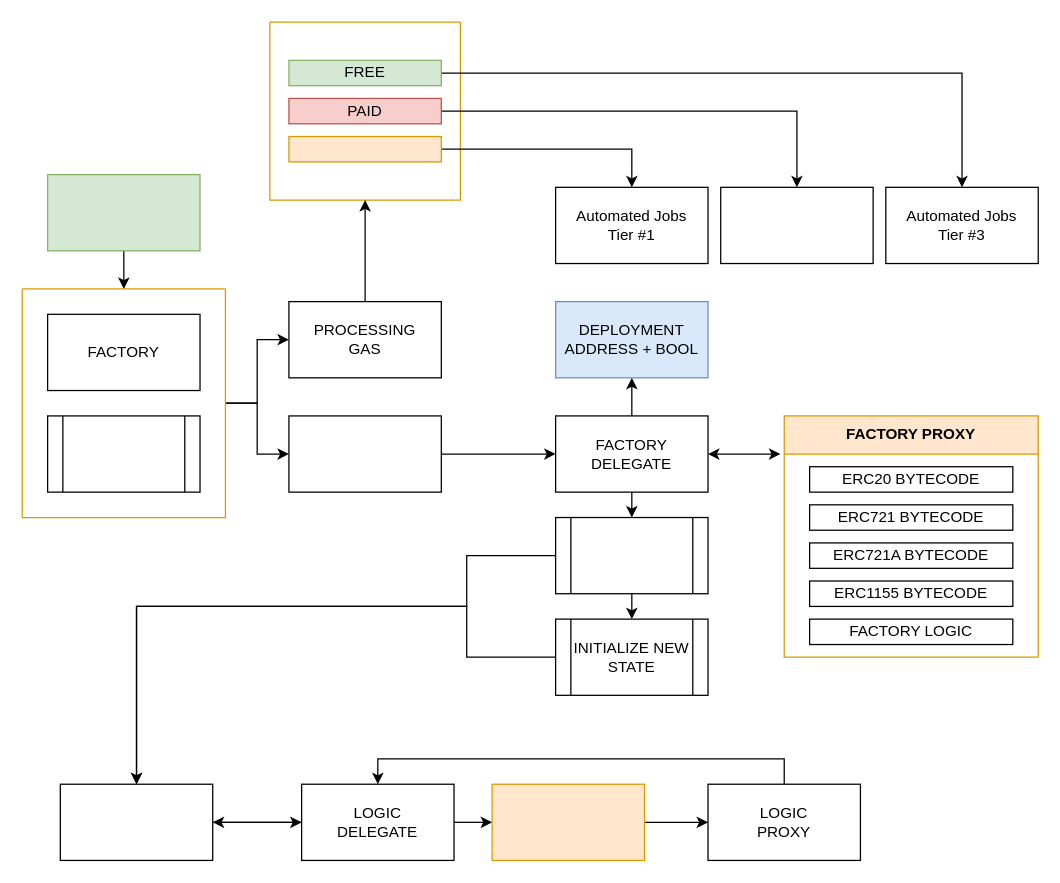
The diagram is 1060 pixels wide and 883 high, and some of its shapes have lost their labels. The shapes that lost their labels are listed below. From the top down, each one's centre as x and y in pixels, then its label:
(364,148): SYSTEM
(123,212): CLIENT DEPLOYMENT REQUEST
(796,225): Automated Jobs Tier #2
(123,453): DETERMINE GAS
(364,453): DEPLOYMENT GAS
(631,555): CREATE2 STATE BYTECODE
(136,821): STATE CONTRACT
(568,821): LIBRARY DELEGATE
